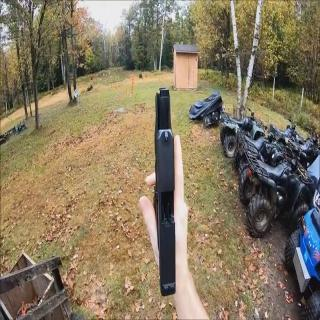gun: (129, 77, 195, 319)
